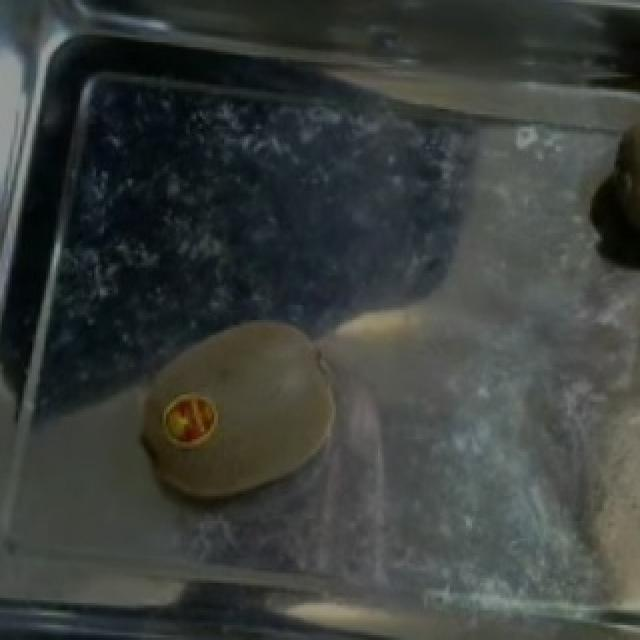Fruit: (144, 305, 352, 514), (534, 357, 640, 640)
